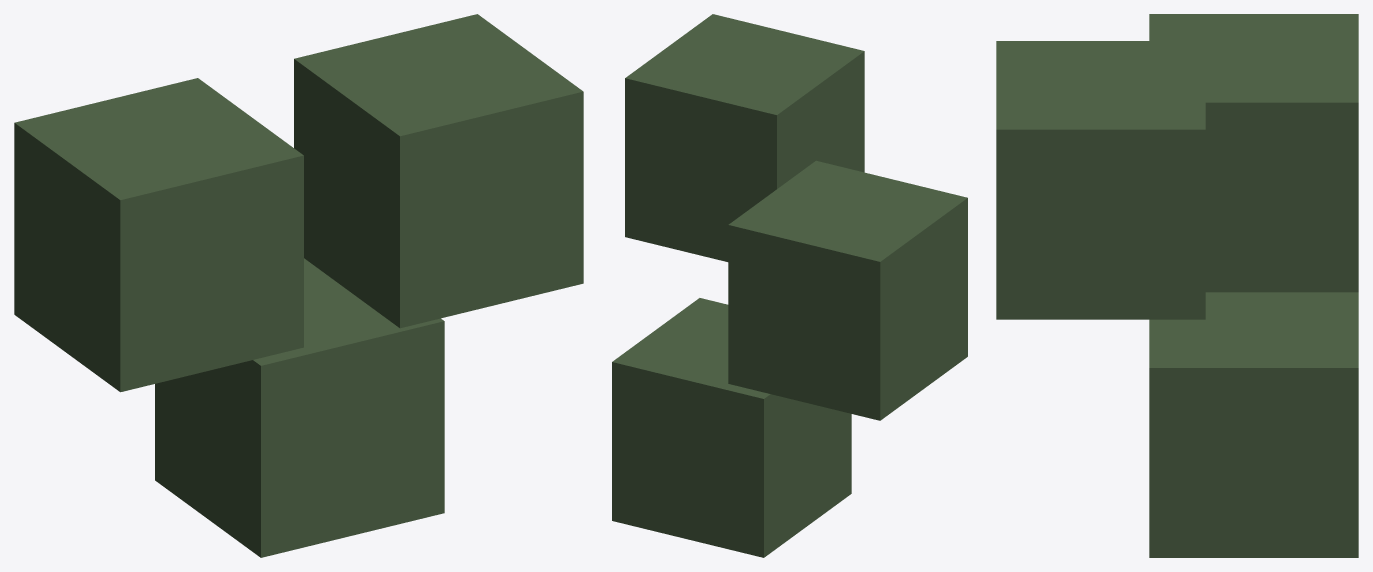
File: Ice.FBX
3 renders of one model, left to right at view 1: azimuth 30°, elevation 25°; view 2: azimuth 150°, elevation 25°; view 3: azimuth 270°, elevation 25°, orthographic. The views are drawn at different scales.
Parts seen in each view (by area): view 1: Box001, Box003, Box002; view 2: Box001, Box003, Box002; view 3: Box003, Box002, Box001.
Boxes of the visible parts, <box> form: Box001: <box>14,78,303,392</box>; Box003: <box>294,14,583,328</box>; Box002: <box>155,258,444,557</box>; Box001: <box>728,160,967,420</box>; Box003: <box>625,14,864,261</box>; Box002: <box>612,298,851,557</box>; Box003: <box>996,41,1205,319</box>; Box002: <box>1149,292,1358,557</box>; Box001: <box>1149,14,1358,292</box>.
Bounding box in the file's own units: 42.03 × 48.24 × 34.61.
